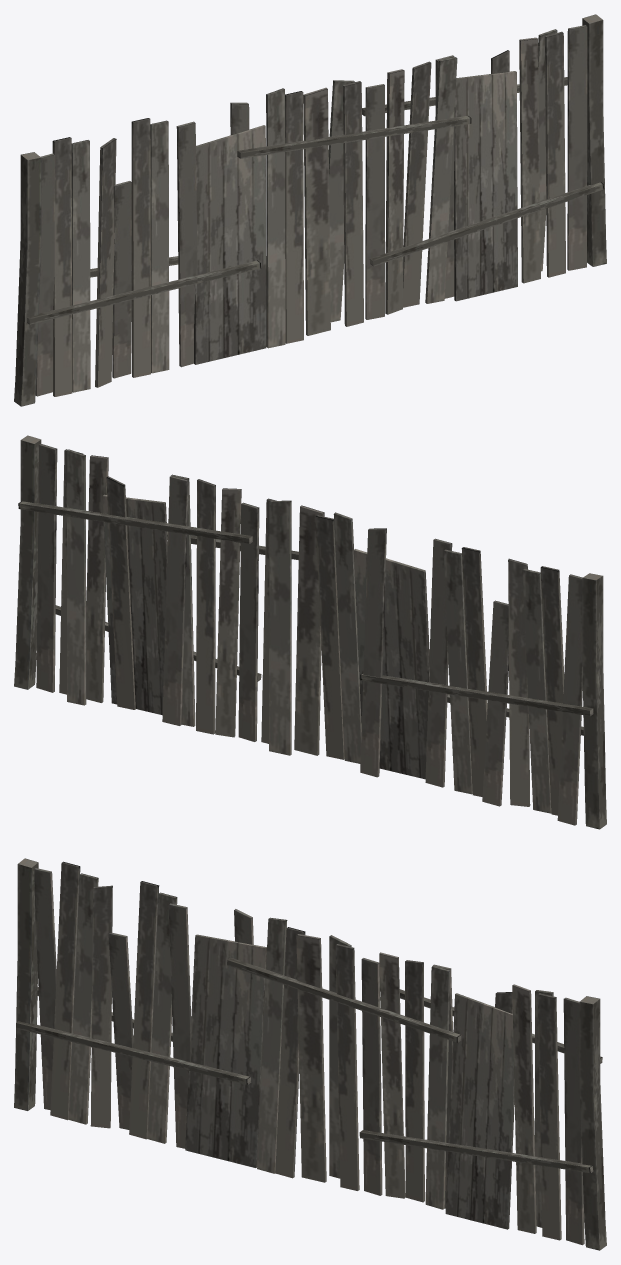
The model's file is Stage_Obj009.fbx.
3 views of the same model, one above another, from view 1: azimuth 30°, elevation 25°; view 2: azimuth 150°, elevation 25°; view 3: azimuth 330°, elevation 25° (orthographic).
Visible parts, largest first — view 1: SM_SampleGame_Fence001; view 2: SM_SampleGame_Fence001; view 3: SM_SampleGame_Fence001.
Boxes of the visible parts, x1,y1,x2,y2 form: SM_SampleGame_Fence001: (14, 14, 606, 406); SM_SampleGame_Fence001: (14, 435, 606, 829); SM_SampleGame_Fence001: (14, 858, 606, 1250).
Size of the model in its own units: 513 by 210 by 20.18.
Materials: 1 (1 with a texture image).
